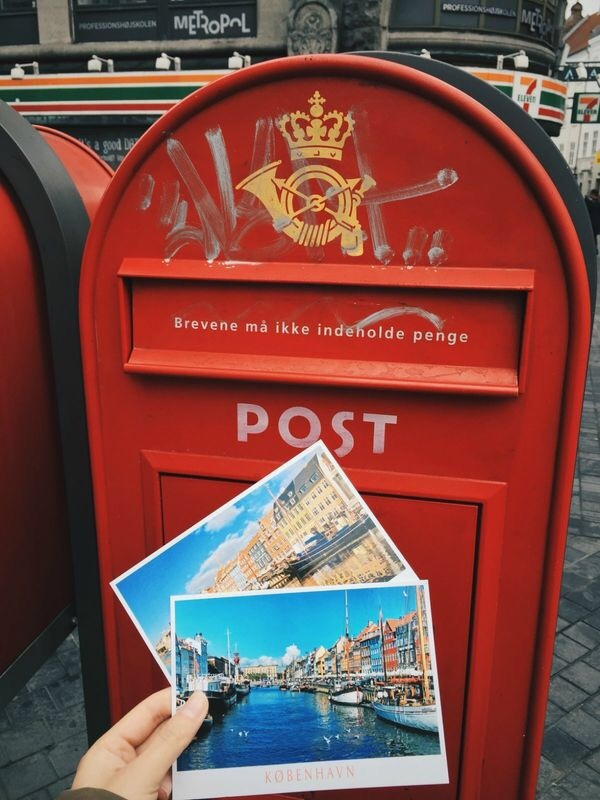text: (231, 402, 246, 460), (247, 402, 262, 460), (263, 402, 278, 460), (279, 402, 294, 460), (295, 402, 310, 460), (311, 402, 326, 460), (327, 402, 342, 460), (343, 402, 358, 460), (359, 402, 374, 460), (375, 402, 390, 460), (391, 402, 406, 460), (436, 3, 451, 45), (452, 3, 467, 45), (468, 3, 483, 45), (484, 3, 499, 45), (500, 3, 515, 45), (516, 3, 531, 45), (532, 3, 547, 45), (548, 3, 563, 45), (173, 10, 188, 37), (189, 10, 204, 37), (205, 10, 220, 37), (221, 10, 236, 37), (237, 10, 252, 37), (315, 321, 330, 344), (331, 321, 346, 344), (347, 321, 362, 344), (363, 321, 378, 344), (379, 321, 394, 344), (395, 321, 410, 344), (263, 764, 278, 785), (279, 764, 294, 785), (295, 764, 310, 785), (311, 764, 326, 785), (327, 764, 342, 785), (343, 764, 358, 785), (409, 329, 424, 349), (425, 329, 440, 349), (441, 329, 456, 349), (457, 329, 472, 349), (268, 320, 283, 338), (284, 320, 299, 338), (300, 320, 315, 338), (174, 318, 189, 333), (190, 318, 205, 333), (206, 318, 221, 333), (222, 318, 237, 333), (78, 20, 93, 34), (94, 20, 109, 34), (110, 20, 125, 34), (126, 20, 141, 34), (142, 20, 157, 34), (241, 322, 256, 336), (257, 322, 272, 336)
